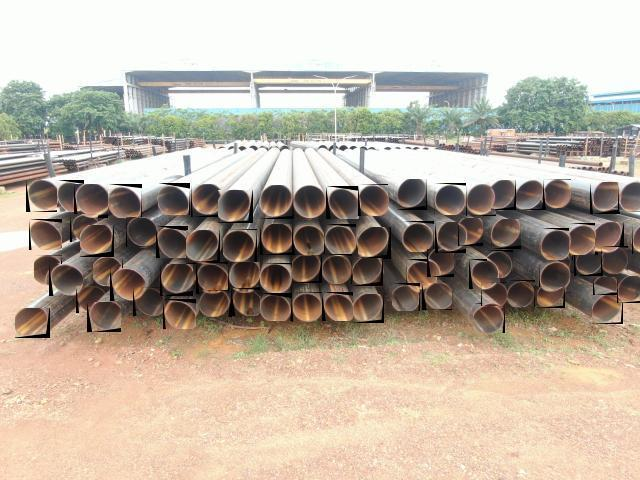pipe: (74, 184, 108, 218), (108, 184, 142, 218), (186, 230, 220, 264), (259, 185, 293, 219), (110, 268, 145, 301), (218, 190, 253, 223), (224, 229, 258, 262), (293, 186, 326, 220), (326, 186, 359, 219), (49, 264, 83, 296), (80, 225, 114, 257), (26, 180, 59, 212), (157, 183, 190, 215), (160, 264, 193, 296), (292, 225, 325, 257), (358, 227, 391, 259), (87, 301, 121, 332), (15, 308, 50, 338), (156, 226, 188, 258), (196, 262, 228, 294), (434, 183, 466, 215), (541, 228, 573, 260), (29, 219, 62, 250), (191, 184, 222, 217), (260, 224, 292, 255), (324, 224, 356, 255), (402, 221, 434, 252), (163, 299, 196, 329), (435, 222, 466, 253), (539, 262, 570, 293), (126, 218, 158, 248), (228, 262, 260, 292), (260, 263, 292, 293), (358, 184, 388, 216), (473, 303, 505, 333), (466, 184, 496, 216), (590, 182, 620, 214), (397, 179, 427, 210), (406, 259, 437, 289), (469, 260, 500, 290), (592, 294, 623, 324), (133, 287, 165, 316), (569, 223, 598, 255), (93, 256, 123, 286), (292, 292, 322, 322), (322, 254, 352, 284), (491, 220, 521, 250), (516, 180, 546, 210), (322, 292, 353, 321), (353, 294, 384, 323), (260, 293, 292, 321), (595, 222, 624, 252), (57, 180, 84, 212), (200, 290, 232, 317), (34, 256, 62, 286), (232, 288, 262, 316), (292, 255, 322, 283), (353, 258, 383, 286), (574, 248, 603, 276), (544, 179, 572, 208), (422, 283, 452, 310), (70, 214, 98, 242), (392, 283, 420, 311), (76, 286, 105, 313), (427, 249, 454, 277), (507, 280, 535, 307), (601, 246, 628, 274), (491, 180, 516, 210), (488, 250, 514, 278), (458, 218, 483, 246), (618, 181, 640, 212), (481, 282, 507, 306), (617, 276, 640, 303), (537, 287, 565, 308), (594, 278, 618, 296), (632, 223, 640, 254)
